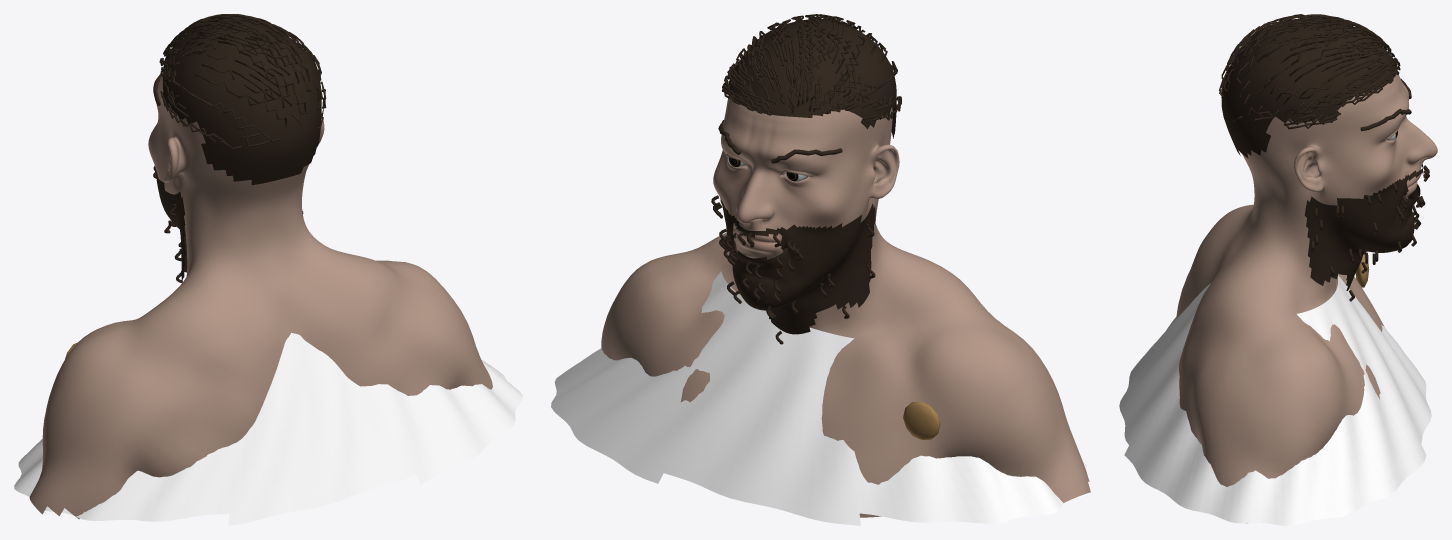
Rendered from envoy_018.glb.
The picture shows the model from 3 angles, left to right: view 1: azimuth 30°, elevation 25°; view 2: azimuth 150°, elevation 25°; view 3: azimuth 270°, elevation 25°; orthographic projection. The views are drawn at different scales.
Parts seen in each view (by area): view 1: Envoy 018 body, Folded shoulder mantle, Envoy 018 fitted scalp, Envoy 018 fitted beard; view 2: Envoy 018 body, Folded shoulder mantle, Envoy 018 fitted beard, Envoy 018 fitted scalp, Shoulder clasp; view 3: Envoy 018 body, Folded shoulder mantle, Envoy 018 fitted scalp, Envoy 018 fitted beard.
Part boxes in pixels (box(x1,y1,x2,y2)): Envoy 018 body: box(29, 72, 492, 519); Folded shoulder mantle: box(14, 333, 522, 525); Envoy 018 fitted scalp: box(162, 20, 321, 185); Envoy 018 fitted beard: box(154, 165, 187, 280); Envoy 018 body: box(601, 96, 1090, 517); Folded shoulder mantle: box(551, 271, 1086, 525); Envoy 018 fitted beard: box(720, 198, 875, 334); Envoy 018 fitted scalp: box(728, 19, 896, 138); Shoulder clasp: box(903, 401, 940, 440); Envoy 018 body: box(1176, 74, 1437, 523); Folded shoulder mantle: box(1119, 275, 1431, 525); Envoy 018 fitted scalp: box(1221, 18, 1397, 158); Envoy 018 fitted beard: box(1304, 164, 1423, 290).
Bounding box in the file's own units: 0.3039 × 0.2464 × 0.1802.
